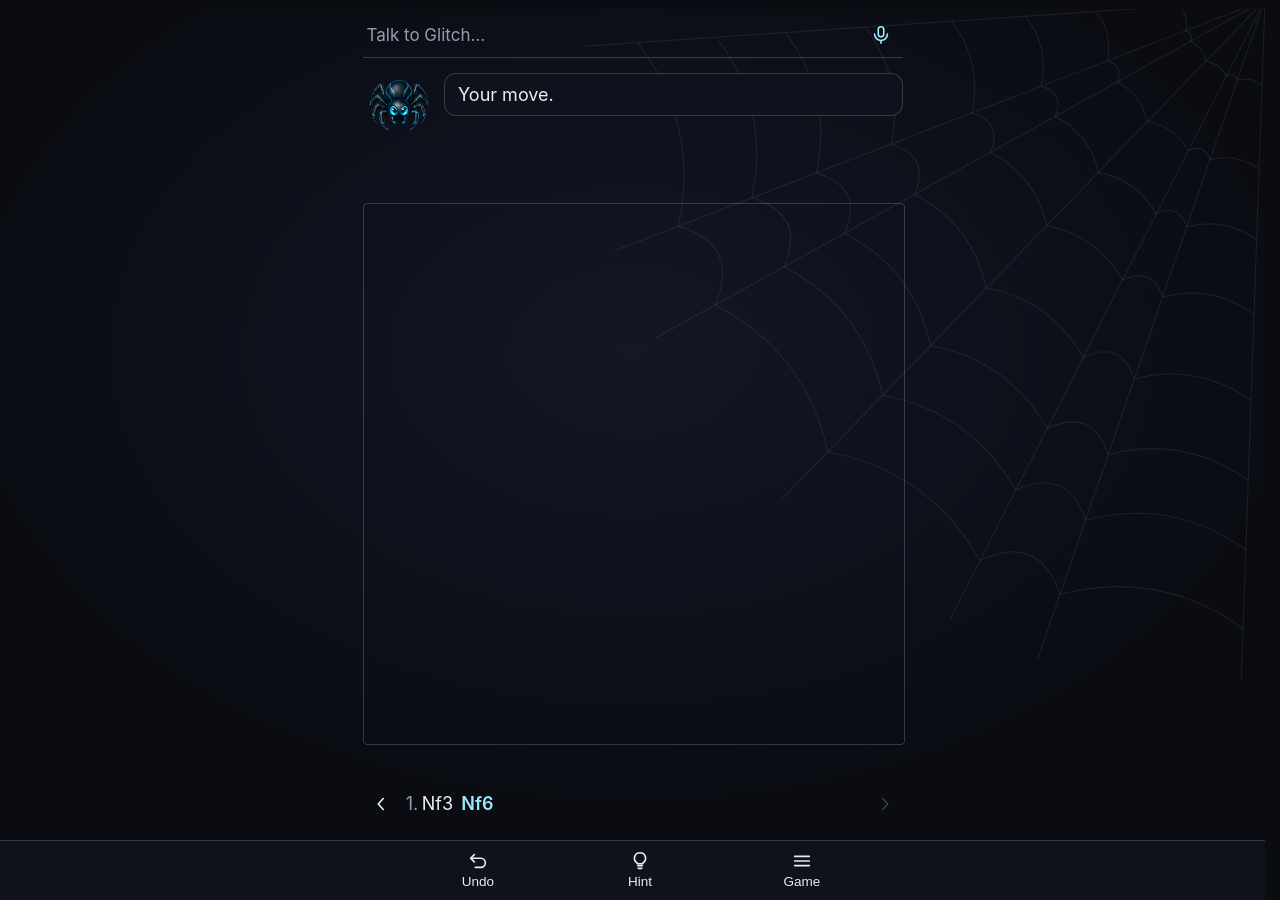
Test: draw button › offers the claim, enabled, once the backend says a draw is claimable
Click the button "Game": [802, 870] box [721,840,883,899]
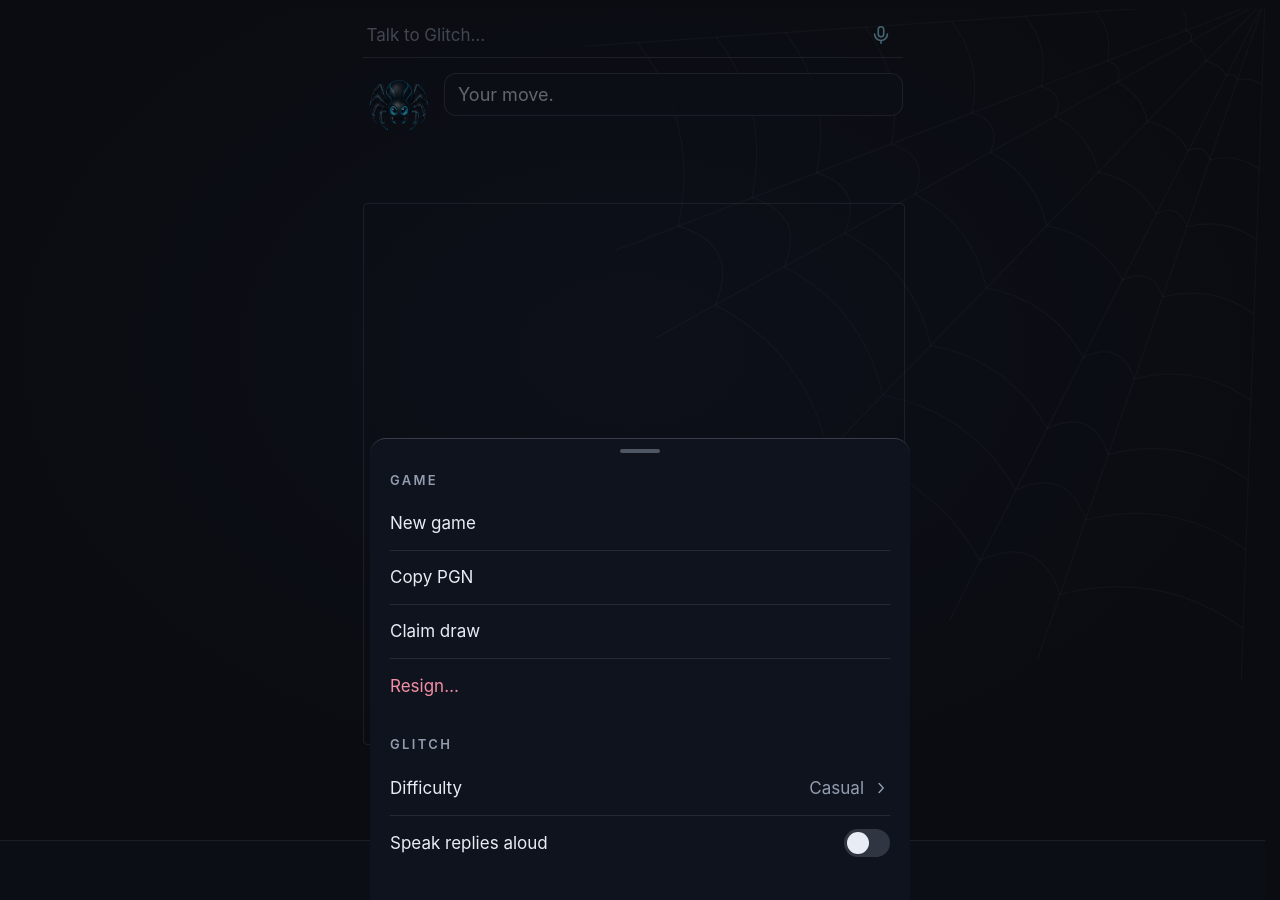
Expected: the button "Claim draw" is enabled, [390,605,890,659]
